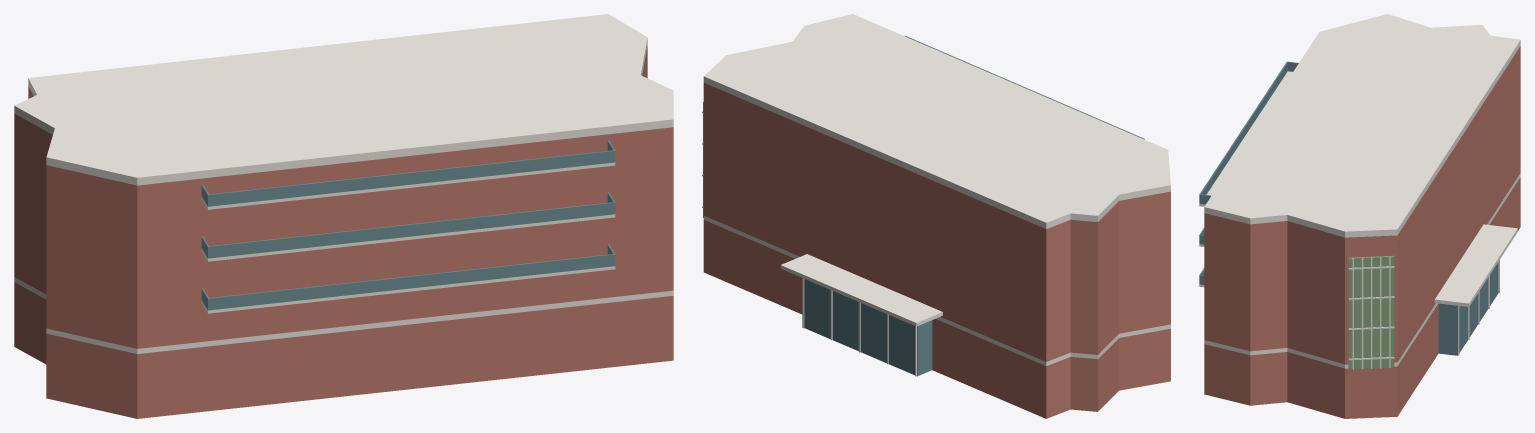
Rendered from stanley.glb.
3 views of the same model, side by side, from view 1: azimuth 30°, elevation 25°; view 2: azimuth 150°, elevation 25°; view 3: azimuth 270°, elevation 25° (orthographic). The views are drawn at different scales.
Parts seen in each view (by area): view 1: SHB_tower, SHB_roof_slab, SHB_podium, SHB_rail_0, SHB_rail_1, SHB_rail_2, SHB_band, SHB_balcony_0, SHB_balcony_1, SHB_balcony_2; view 2: SHB_tower, SHB_roof_slab, SHB_podium, SHB_atrium, SHB_canopy, SHB_band; view 3: SHB_roof_slab, SHB_tower, SHB_podium, SHB_green_wall, SHB_canopy, SHB_atrium, SHB_band, SHB_rail_2, SHB_balcony_2, SHB_green_frame_3.
Boxes of the visible parts, x1,y1,x2,y2 form: SHB_tower: (14,46,673,348); SHB_roof_slab: (14,14,673,185); SHB_podium: (14,282,673,418); SHB_rail_0: (207,254,615,310); SHB_rail_1: (207,202,615,258); SHB_rail_2: (208,150,615,206); SHB_band: (14,277,673,353); SHB_balcony_0: (201,266,615,313); SHB_balcony_1: (201,214,615,261); SHB_balcony_2: (201,162,615,209); SHB_tower: (703,83,1170,361); SHB_roof_slab: (703,14,1170,228); SHB_podium: (703,220,1170,418); SHB_atrium: (804,279,932,376); SHB_canopy: (780,254,942,326); SHB_band: (703,216,1170,366); SHB_roof_slab: (1204,14,1520,237); SHB_tower: (1204,46,1520,364); SHB_podium: (1204,177,1520,418); SHB_green_wall: (1348,255,1394,369); SHB_canopy: (1434,224,1517,306); SHB_atrium: (1438,262,1498,355); SHB_band: (1204,173,1520,368); SHB_rail_2: (1199,61,1287,198); SHB_balcony_2: (1199,71,1292,206); SHB_green_frame_3: (1361,258,1363,369).
Size of the model in its own units: 46.58 by 18.6 by 28.93.
